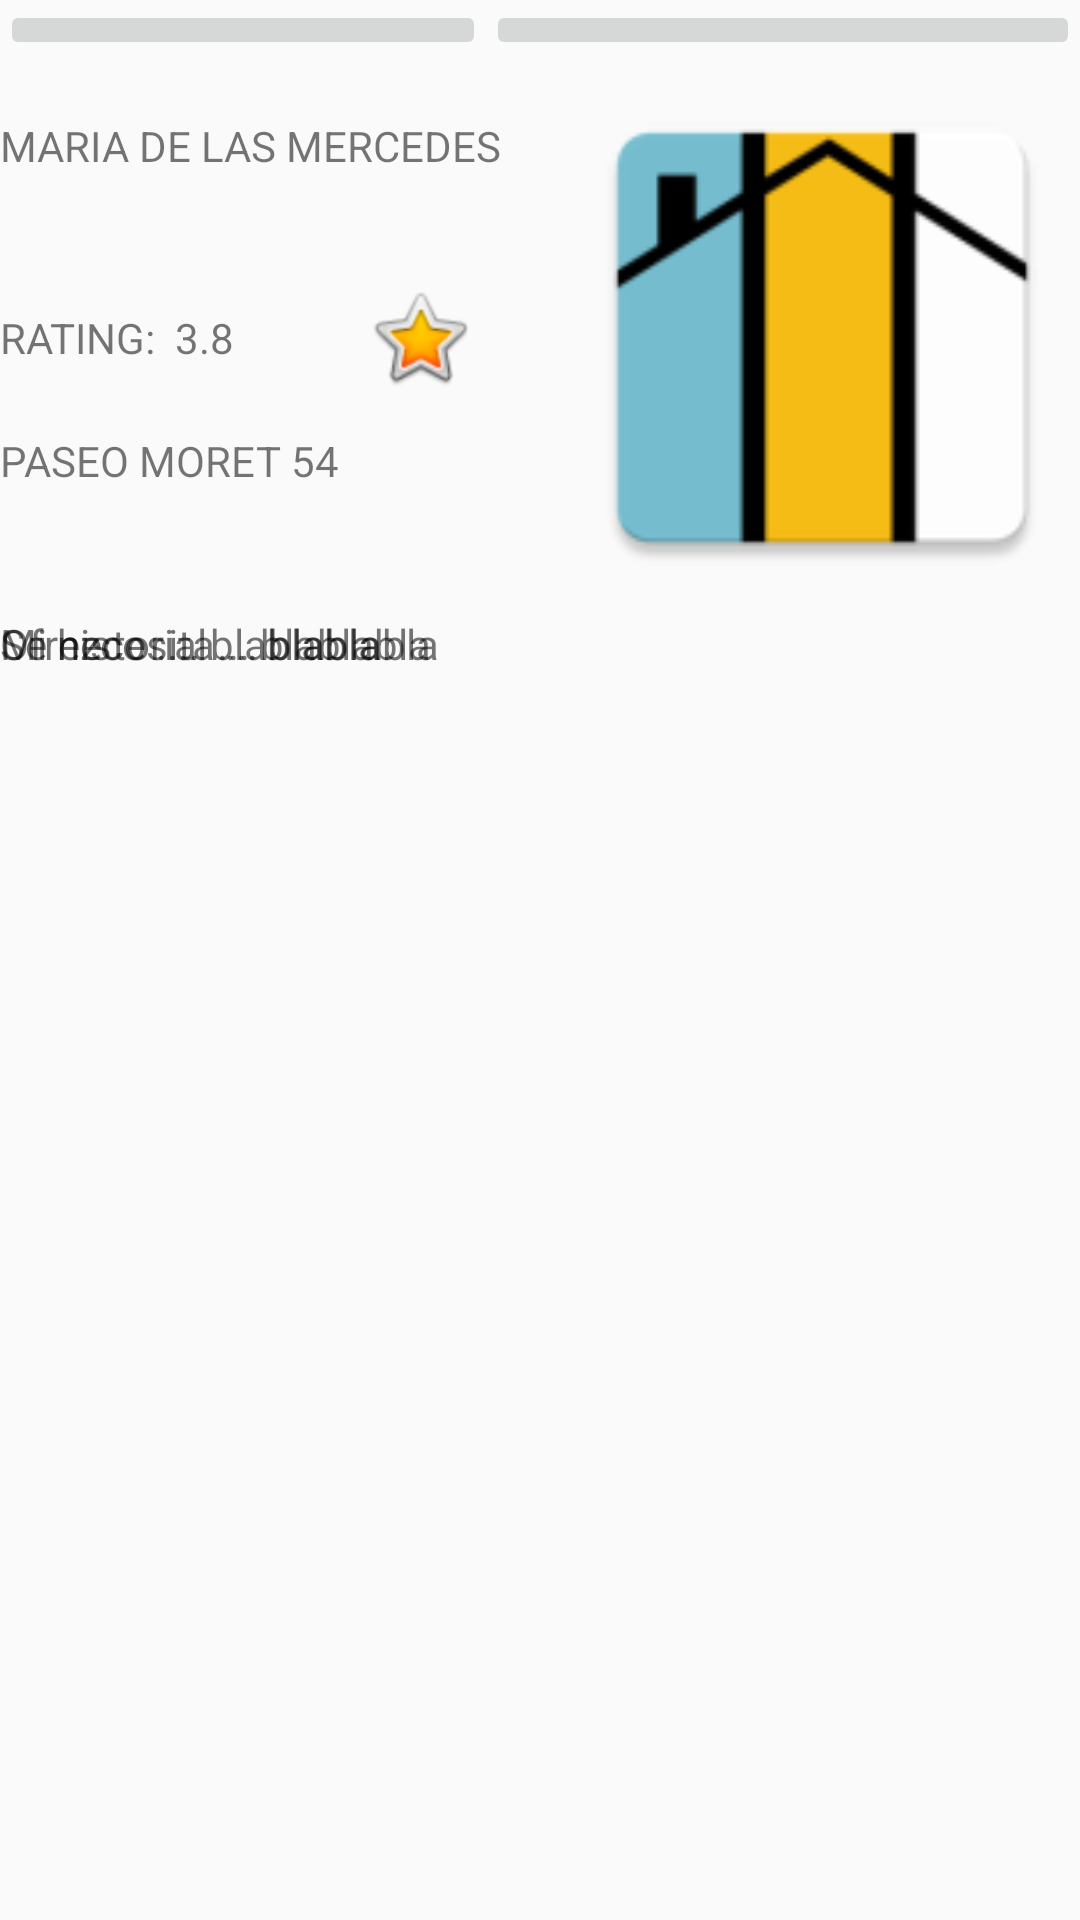

Point at icon controls on the screen. Image size 1080w x 1920h, points as [x,y].
star on: [421,338]
